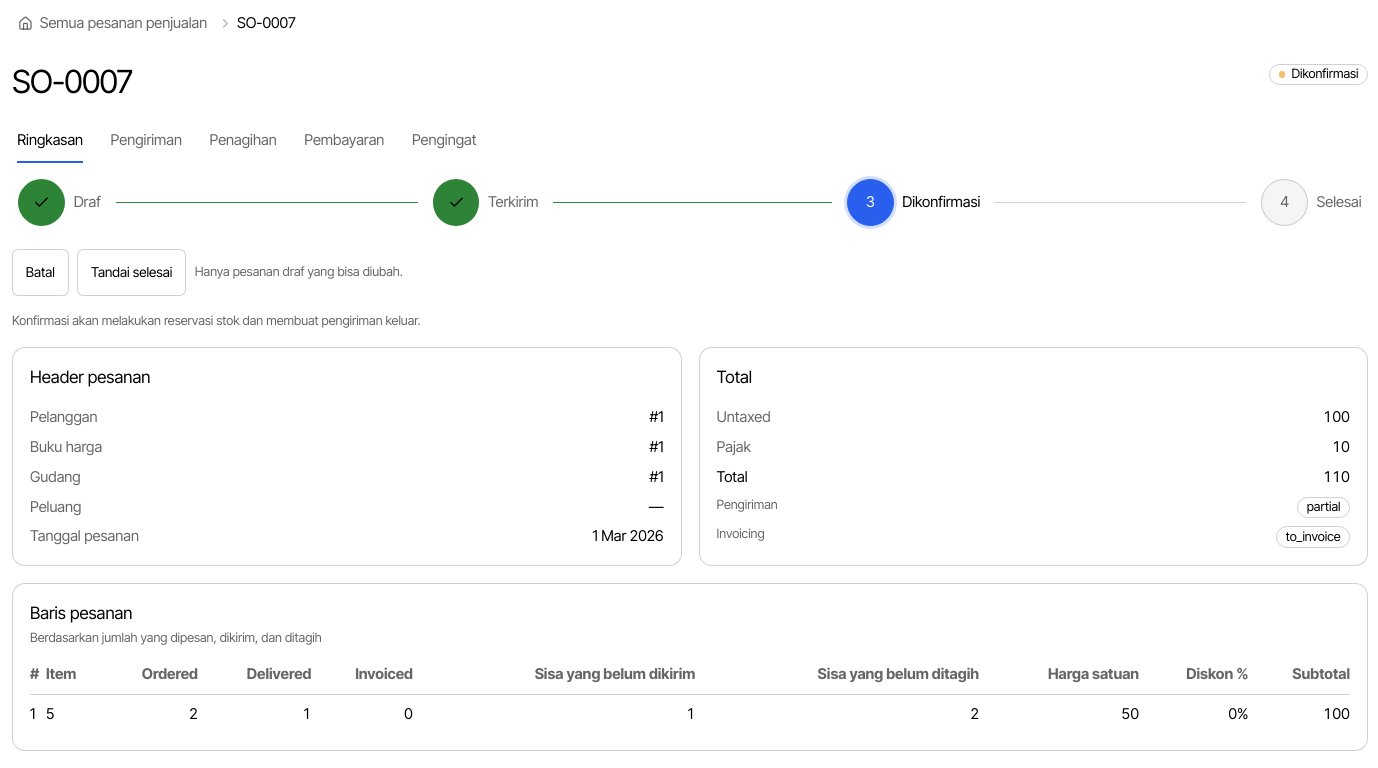
SaleOrderDetail branches2 › renders reminder rows when actions exist
Click the tab "Pengingat" at (444,141), box x1=411 y1=117 x2=477 y2=164
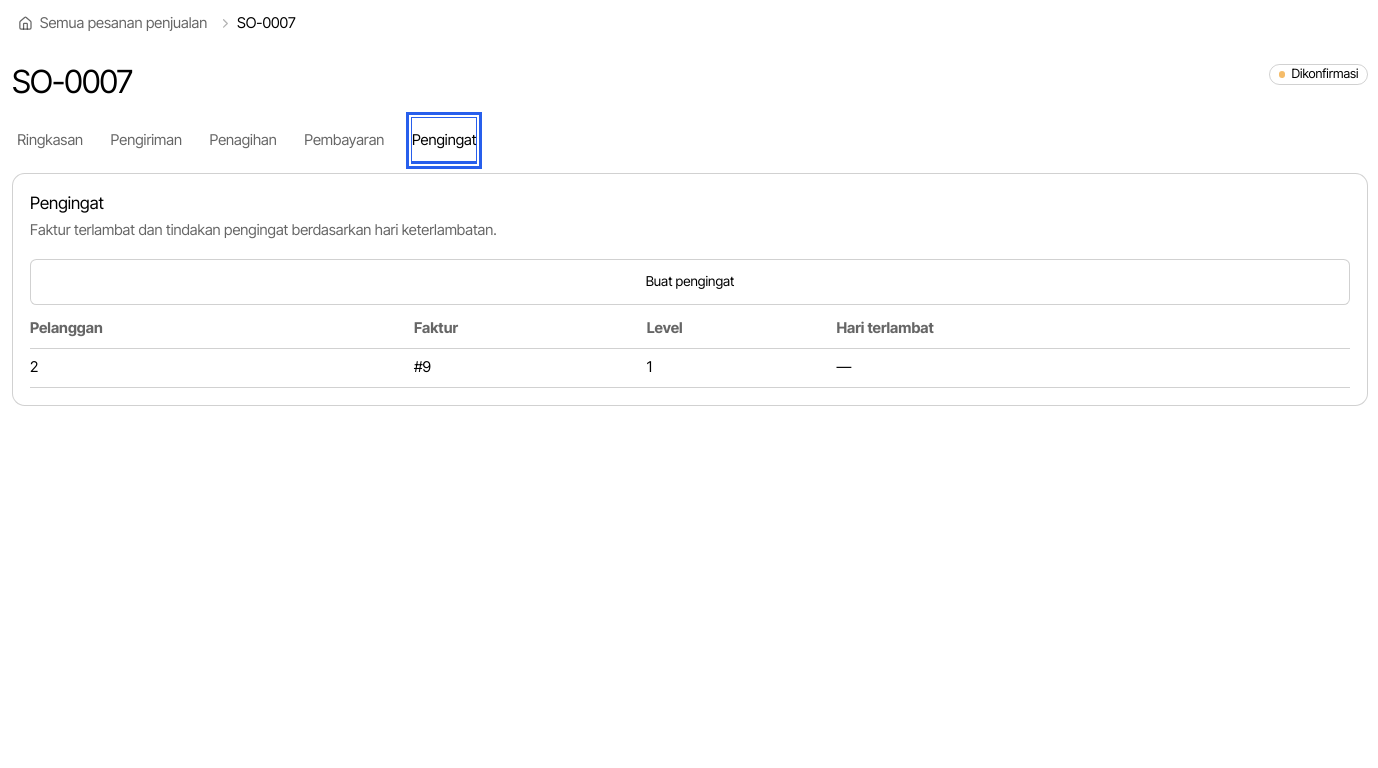
expect the text "#9" is shown: met, box x1=414 y1=348 x2=647 y2=388
